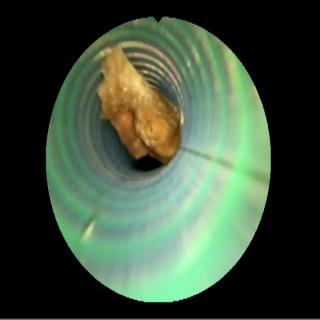stone: (97, 44, 180, 162)
